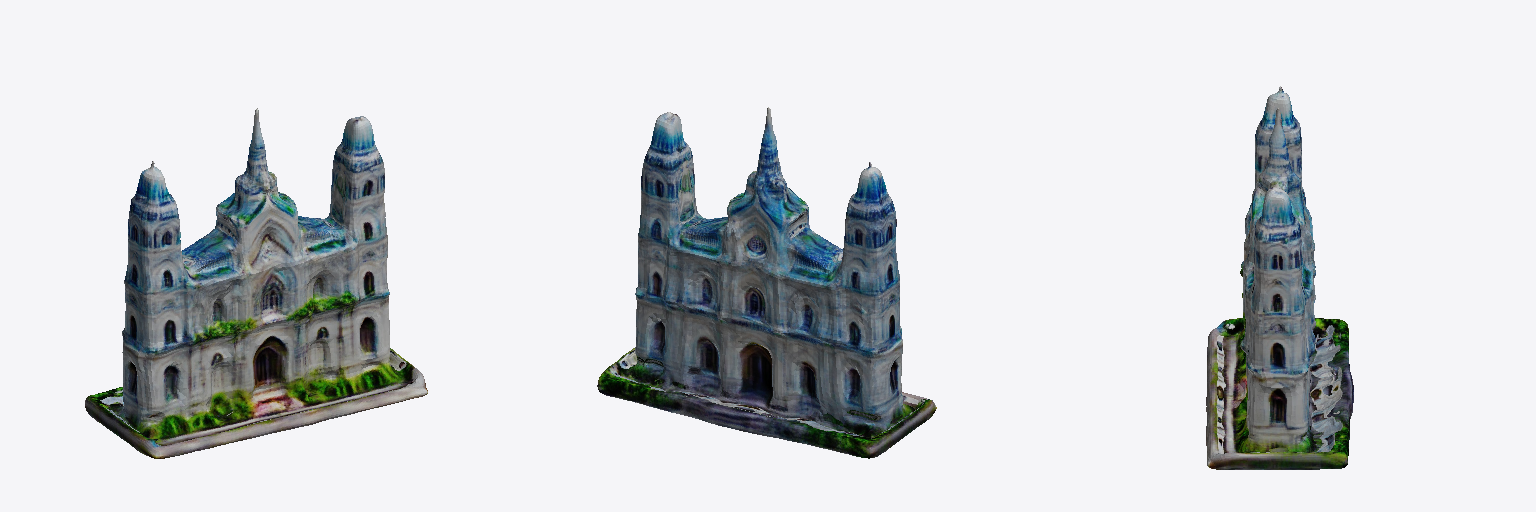
3 views of the same model, side by side, from view 1: azimuth 30°, elevation 25°; view 2: azimuth 150°, elevation 25°; view 3: azimuth 270°, elevation 25° (orthographic).
Parts seen in each view (by area): view 1: mesh; view 2: mesh; view 3: mesh.
Boxes of the visible parts, x1=… form: mesh: x1=85, y1=108, x2=427, y2=458; mesh: x1=597, y1=107, x2=936, y2=458; mesh: x1=1206, y1=86, x2=1353, y2=469.
Bounding box in the file's own units: 0.9862 × 0.9921 × 0.448.
1 materials, 1 textured.